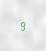nine: (19, 19, 24, 31)
